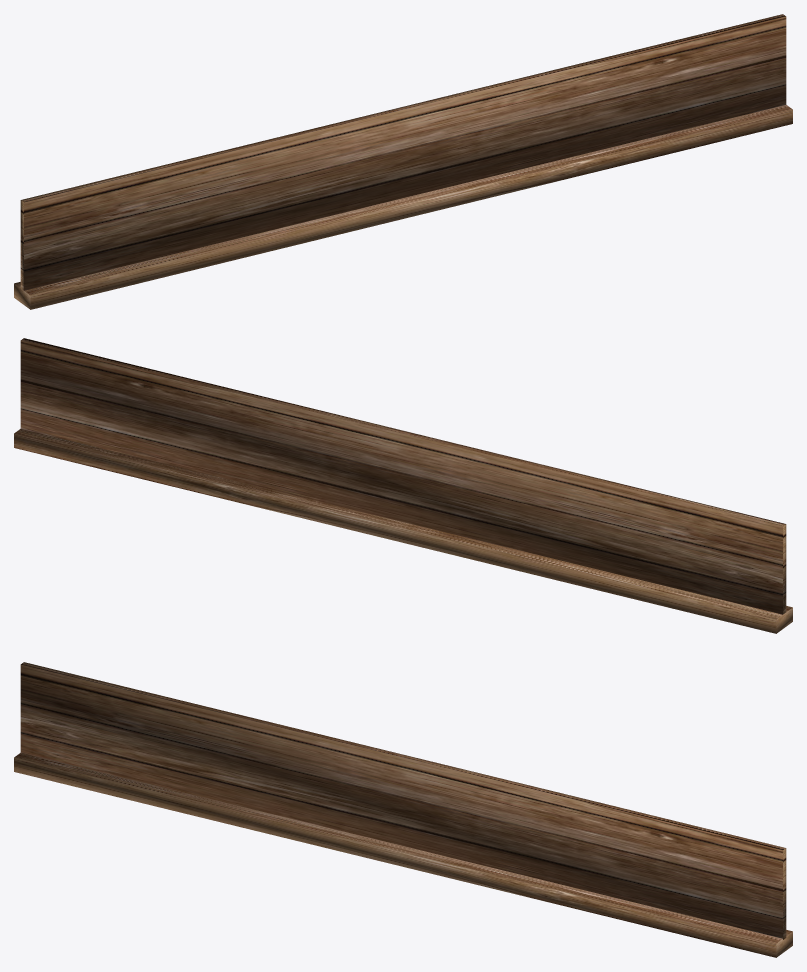
Rendered from table_part4.glb.
3 views of the same model, one above another, from view 1: azimuth 30°, elevation 25°; view 2: azimuth 150°, elevation 25°; view 3: azimuth 330°, elevation 25° (orthographic).
Visible parts, largest first — view 1: wood.jpg__; view 2: wood.jpg__; view 3: wood.jpg__.
Part boxes in pixels (x1=…): wood.jpg__: x1=14, y1=14, x2=792, y2=309; wood.jpg__: x1=14, y1=338, x2=792, y2=633; wood.jpg__: x1=14, y1=662, x2=792, y2=957.
Size of the model in its own units: 2.52 by 0.3243 by 0.0954.
1 material, 1 textured.
